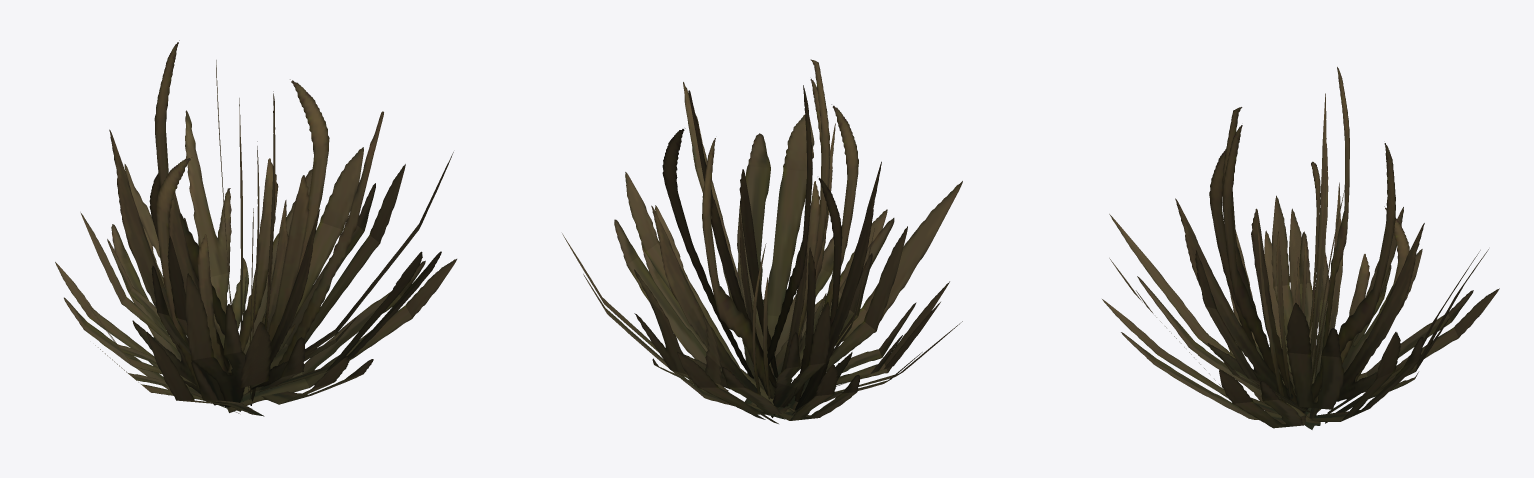
File: stage_mine_shrub003.FBX
3 views of the same model, side by side, from view 1: azimuth 30°, elevation 25°; view 2: azimuth 150°, elevation 25°; view 3: azimuth 270°, elevation 25° (orthographic). The views are drawn at different scales.
Visible parts, largest first — view 1: stage_mine_shrub003; view 2: stage_mine_shrub003; view 3: stage_mine_shrub003.
Part boxes in pixels (x1,y1,x2,y2): stage_mine_shrub003: (55,40,456,416); stage_mine_shrub003: (562,59,962,423); stage_mine_shrub003: (1102,67,1499,429).
Bounding box in the file's own units: 151 × 153 × 172.
